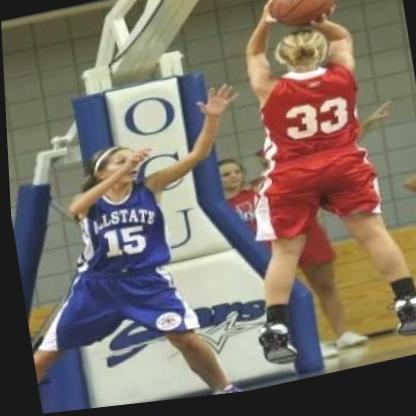basketball: (265, 0, 341, 42)
